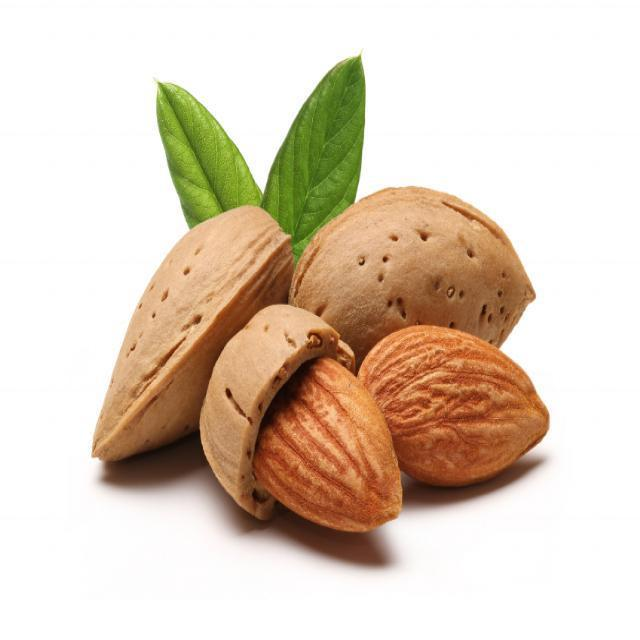almond: (357, 322, 552, 485), (258, 357, 407, 535)
